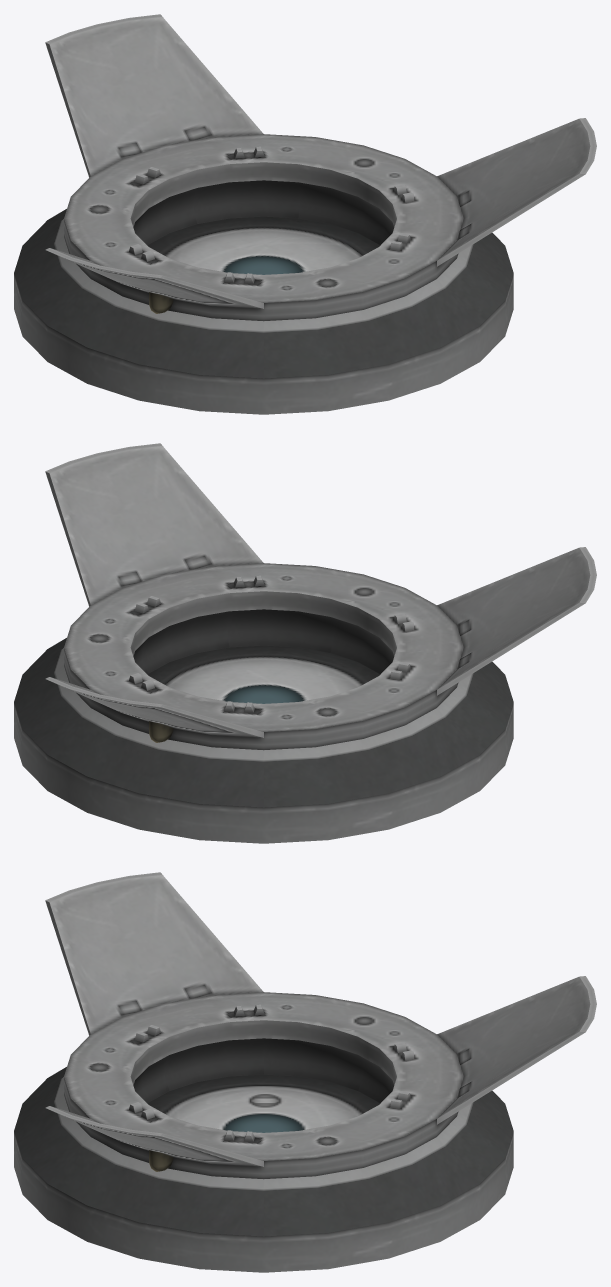
The model's file is octans_androgynous_docking_port_s0p5_2.obj.
The picture shows the model from 3 angles, top to bottom: view 1: azimuth 30°, elevation 25°; view 2: azimuth 150°, elevation 25°; view 3: azimuth 270°, elevation 25°; orthographic projection.
Visible parts, largest first — view 1: guide, mesh; view 2: guide, mesh; view 3: guide, mesh.
Boxes of the visible parts, <box> form: guide: <box>45,14,596,321</box>; mesh: <box>14,180,513,414</box>; guide: <box>45,443,596,750</box>; mesh: <box>14,609,513,843</box>; guide: <box>45,872,596,1179</box>; mesh: <box>14,1038,513,1272</box>.
Bounding box in the file's own units: 1.17 × 0.3375 × 1.09.
2 materials, 2 textured.
